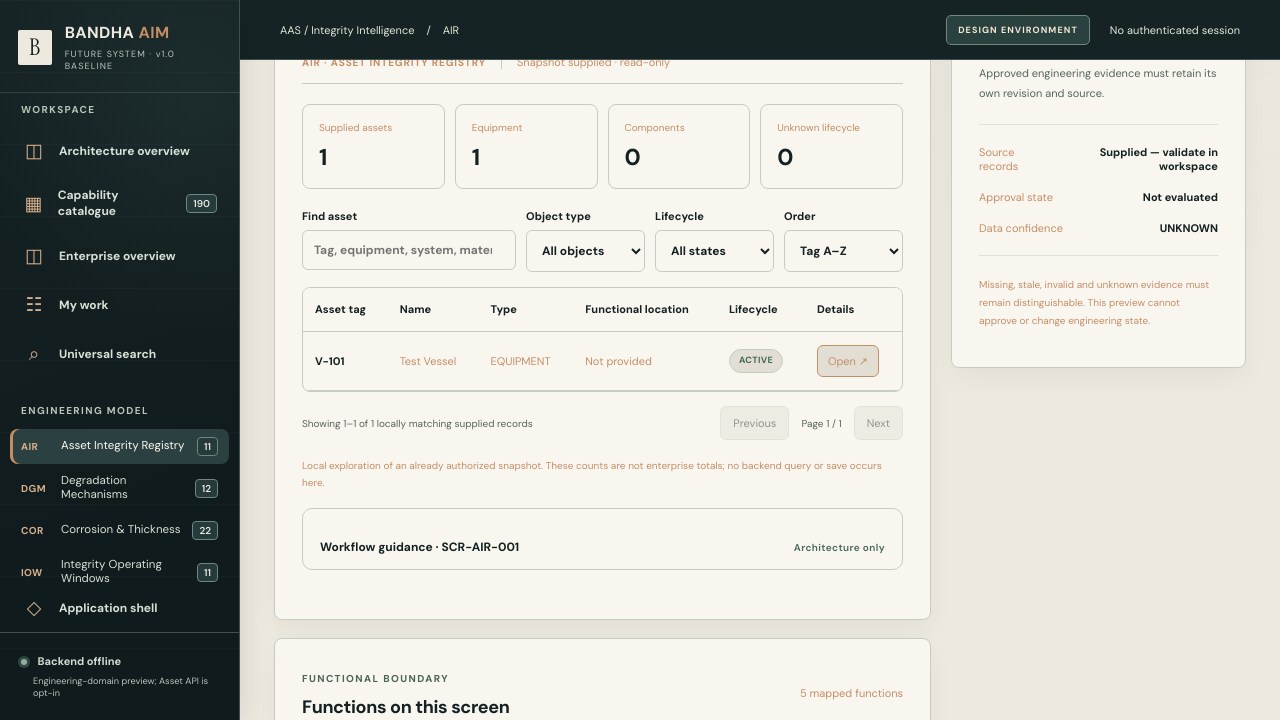
Test: Phase 46.4: three-domain canonical journey › removes all cross-domain context when trusted navigation scope is withdrawn
The image size is (1280, 720).
(page scrolled)
Click the button with aria-label "Open V-101 workspace" at (848,361), box x1=817 y1=345 x2=879 y2=377
(page scrolled)
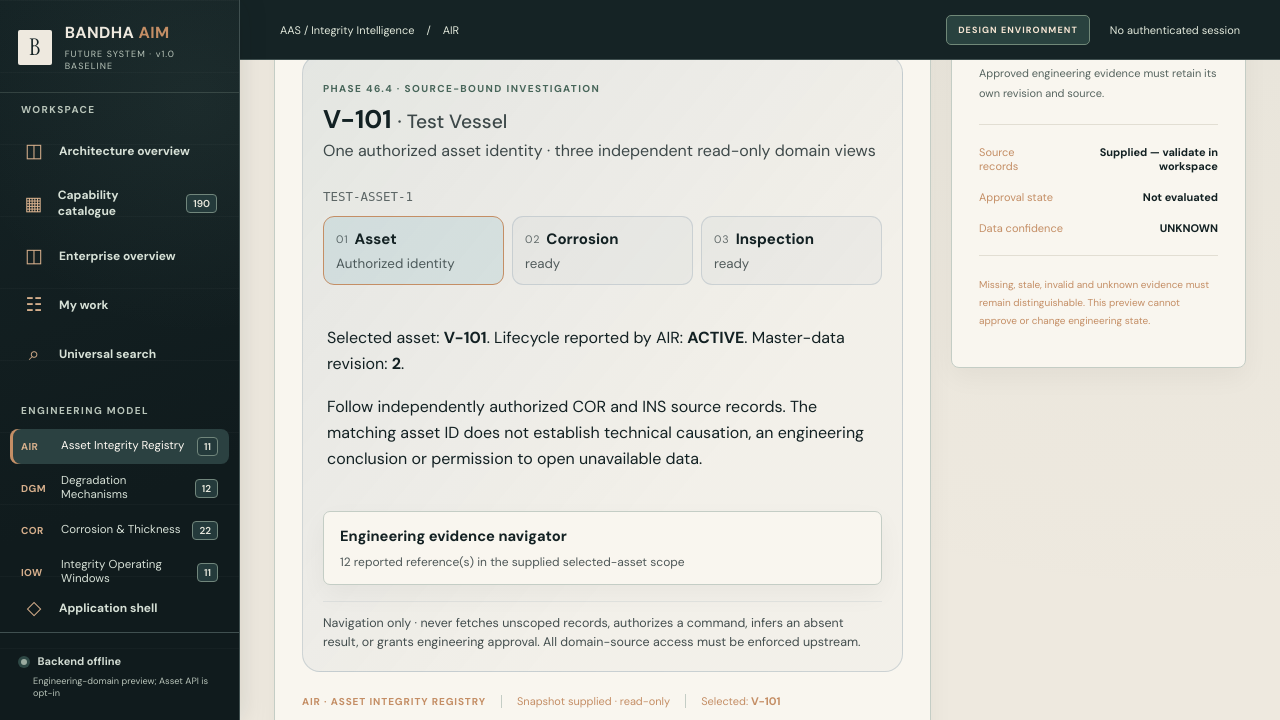
Check: the element named "Asset to Corrosion to Inspection investigation" is shown, box x1=302 y1=55 x2=903 y2=672
